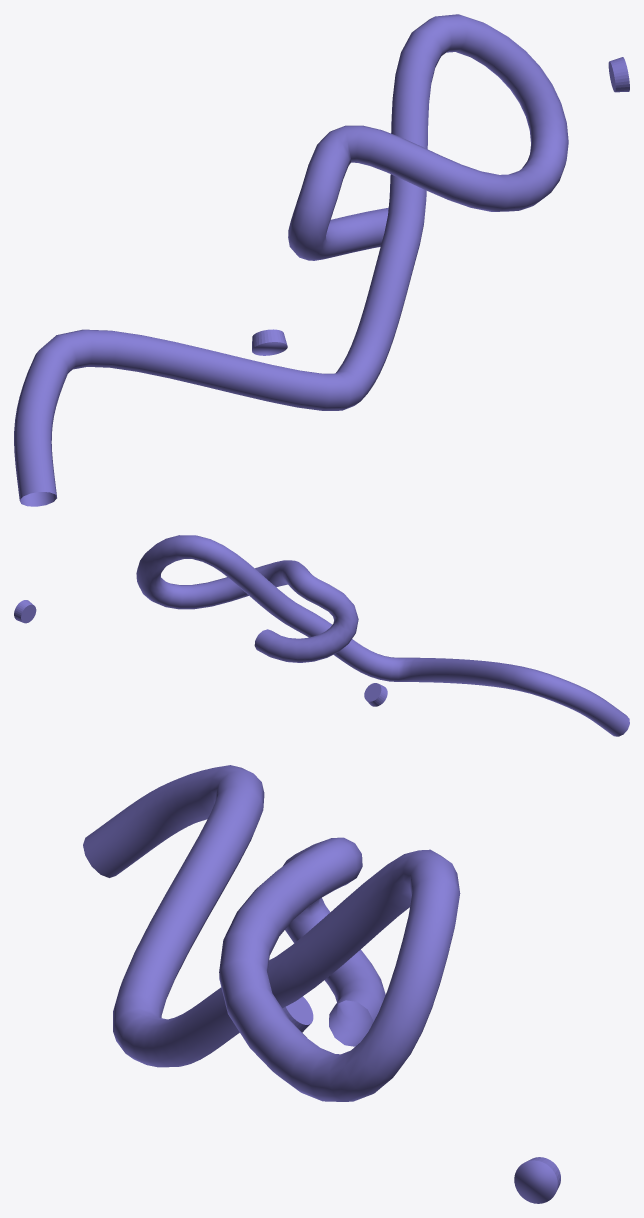
File: Ebola.fbx
3 views of the same model, one above another, from view 1: azimuth 30°, elevation 25°; view 2: azimuth 150°, elevation 25°; view 3: azimuth 270°, elevation 25° (orthographic). The views are drawn at different scales.
Visible parts, largest first — view 1: BezierCurve, Cylinder.001; view 2: BezierCurve, Cylinder.001, Cylinder; view 3: BezierCurve, Cylinder, Cylinder.001.
Boxes of the visible parts, bbox=[...] form: BezierCurve: bbox=[14, 14, 568, 506]; Cylinder.001: bbox=[252, 329, 287, 355]; BezierCurve: bbox=[136, 535, 629, 736]; Cylinder.001: bbox=[364, 683, 387, 706]; Cylinder: bbox=[14, 600, 36, 623]; BezierCurve: bbox=[83, 765, 460, 1101]; Cylinder: bbox=[514, 1157, 560, 1203]; Cylinder.001: bbox=[282, 996, 313, 1032].
Size of the model in its own units: 335 by 112 by 138.
